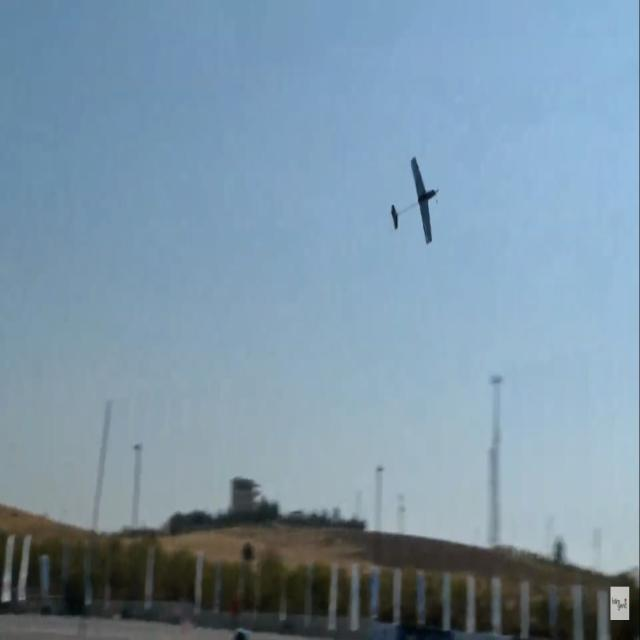iha: (390, 182, 439, 208)
